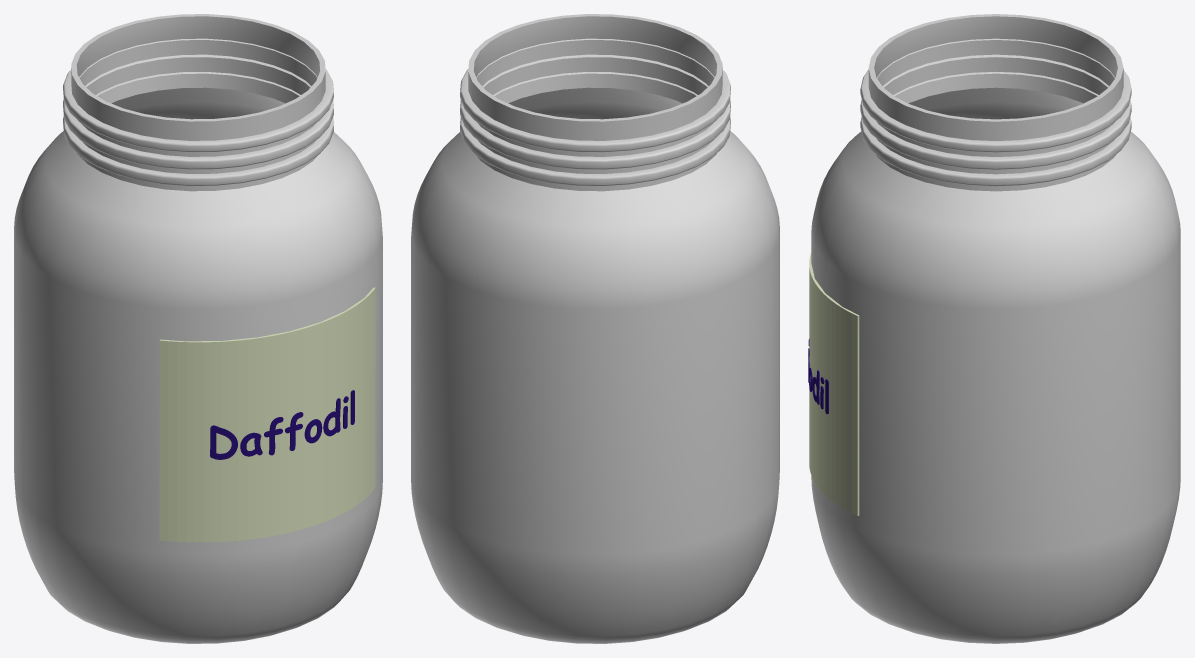
File: Jar_Daffodil.fbx
The picture shows the model from 3 angles, left to right: view 1: azimuth 30°, elevation 25°; view 2: azimuth 150°, elevation 25°; view 3: azimuth 270°, elevation 25°; orthographic projection.
Parts seen in each view (by area): view 1: Jar.002; view 2: Jar.002; view 3: Jar.002.
Boxes of the visible parts, <box> form: Jar.002: <box>14,14,382,643</box>; Jar.002: <box>411,14,779,643</box>; Jar.002: <box>808,14,1180,643</box>.
Bounding box in the file's own units: 25.69 × 39.71 × 25.91.
